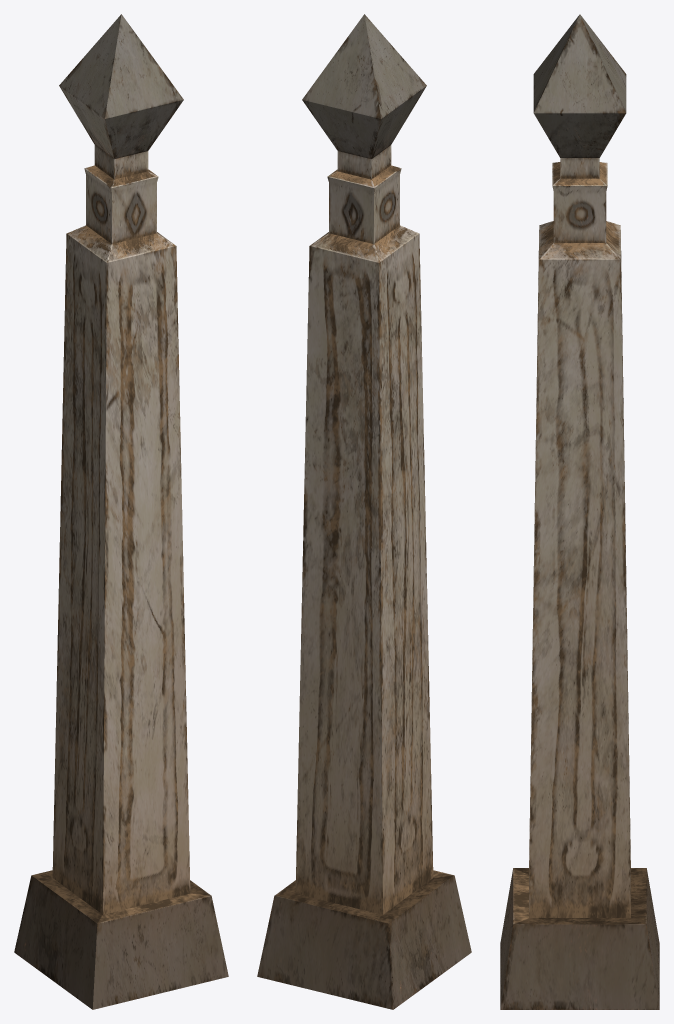
Rendered from bridge_pillar.fbx.
3 renders of one model, left to right at view 1: azimuth 30°, elevation 25°; view 2: azimuth 150°, elevation 25°; view 3: azimuth 270°, elevation 25°, orthographic.
Parts seen in each view (by area): view 1: Object021; view 2: Object021; view 3: Object021.
Part boxes in pixels (box(x1,y1,x2,y2)): Object021: box(14, 14, 228, 1009); Object021: box(257, 14, 471, 1009); Object021: box(500, 14, 659, 1009).
Size of the model in its own units: 20.94 by 140 by 20.94.
